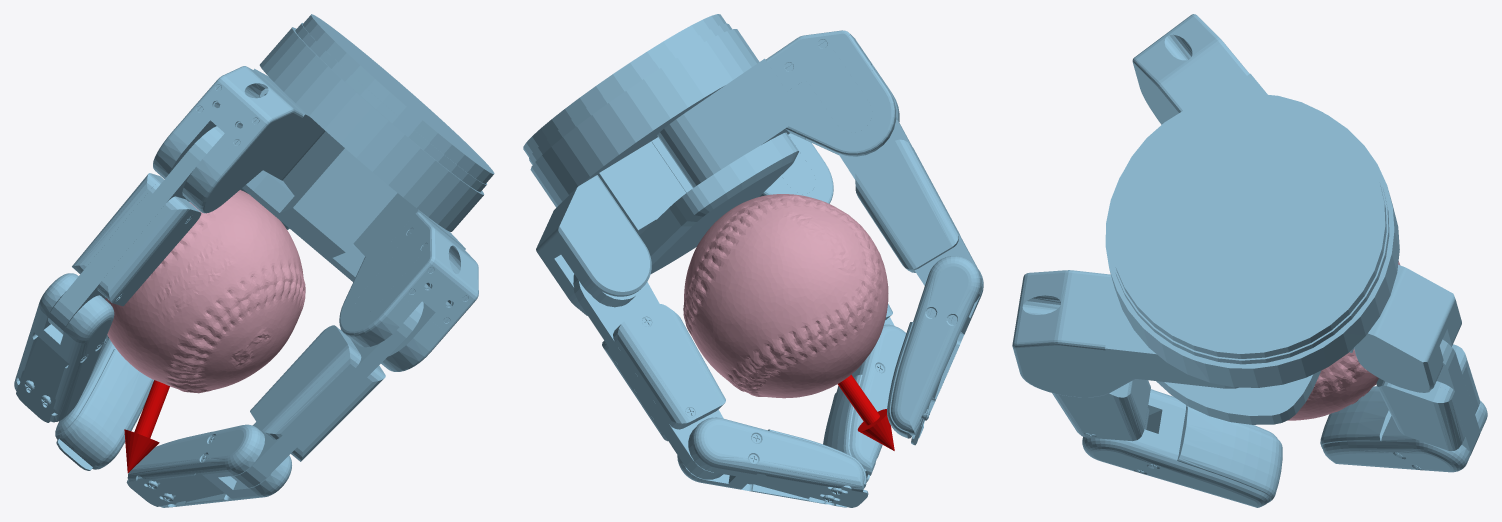
The picture shows the model from 3 angles, left to right: view 1: azimuth 30°, elevation 25°; view 2: azimuth 150°, elevation 25°; view 3: azimuth 270°, elevation 25°; orthographic projection. The views are drawn at different scales.
Parts seen in each view (by area): view 1: world, baseball.stl; view 2: world, baseball.stl; view 3: world, baseball.stl.
Part boxes in pixels (x1,y1,x2,y2): world: (14, 14, 494, 507); baseball.stl: (105, 190, 305, 393); world: (523, 14, 983, 507); baseball.stl: (683, 194, 888, 398); world: (1012, 14, 1487, 507); baseball.stl: (1287, 261, 1399, 420).
Bounding box in the file's own units: 0.1763 × 0.1715 × 0.1456.
